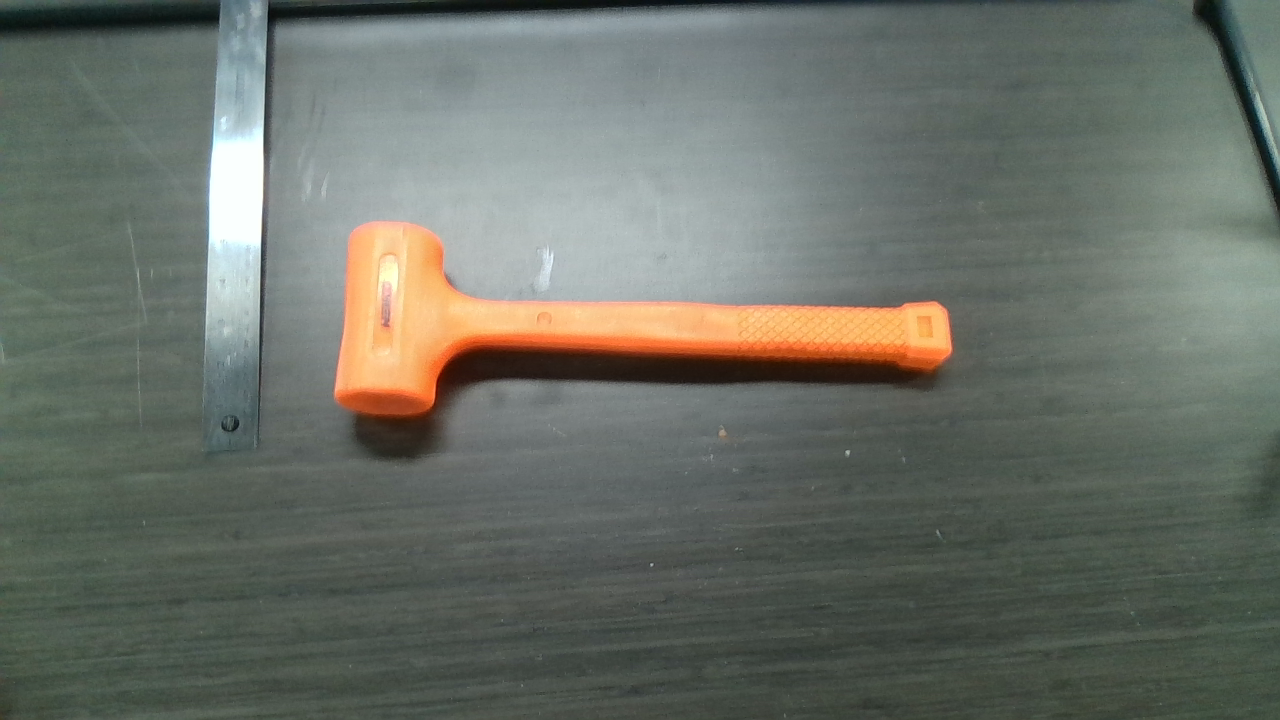Orange Hammer: (340, 221, 952, 416)
